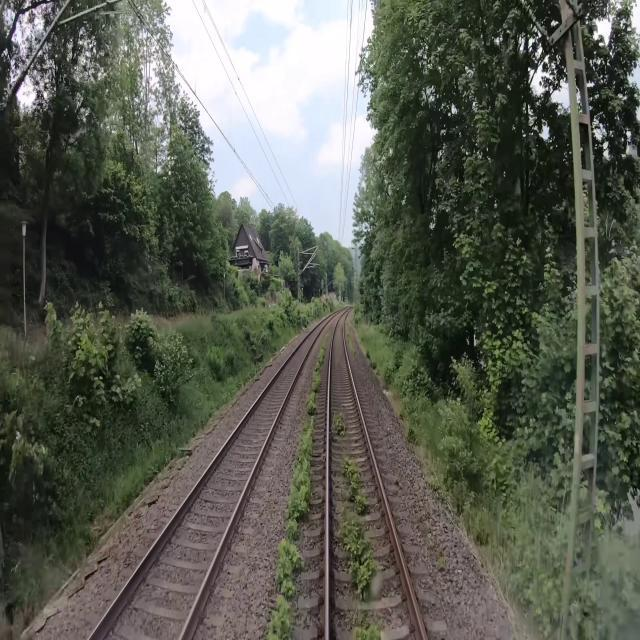Plant: (265, 333, 330, 639), (339, 521, 375, 600), (343, 459, 368, 513), (352, 628, 382, 639), (332, 412, 347, 433), (346, 329, 356, 358), (433, 554, 446, 573)
